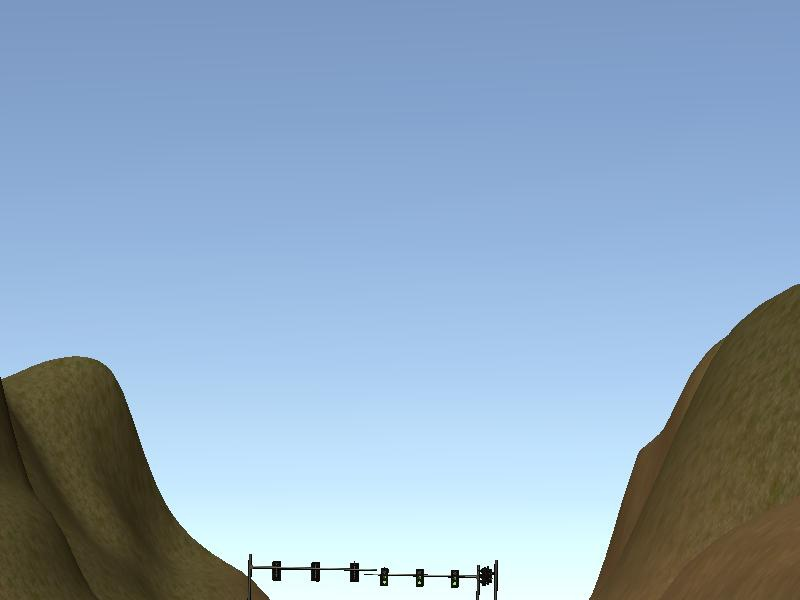green_light: (379, 568, 390, 586), (451, 570, 460, 588), (417, 568, 426, 585)
